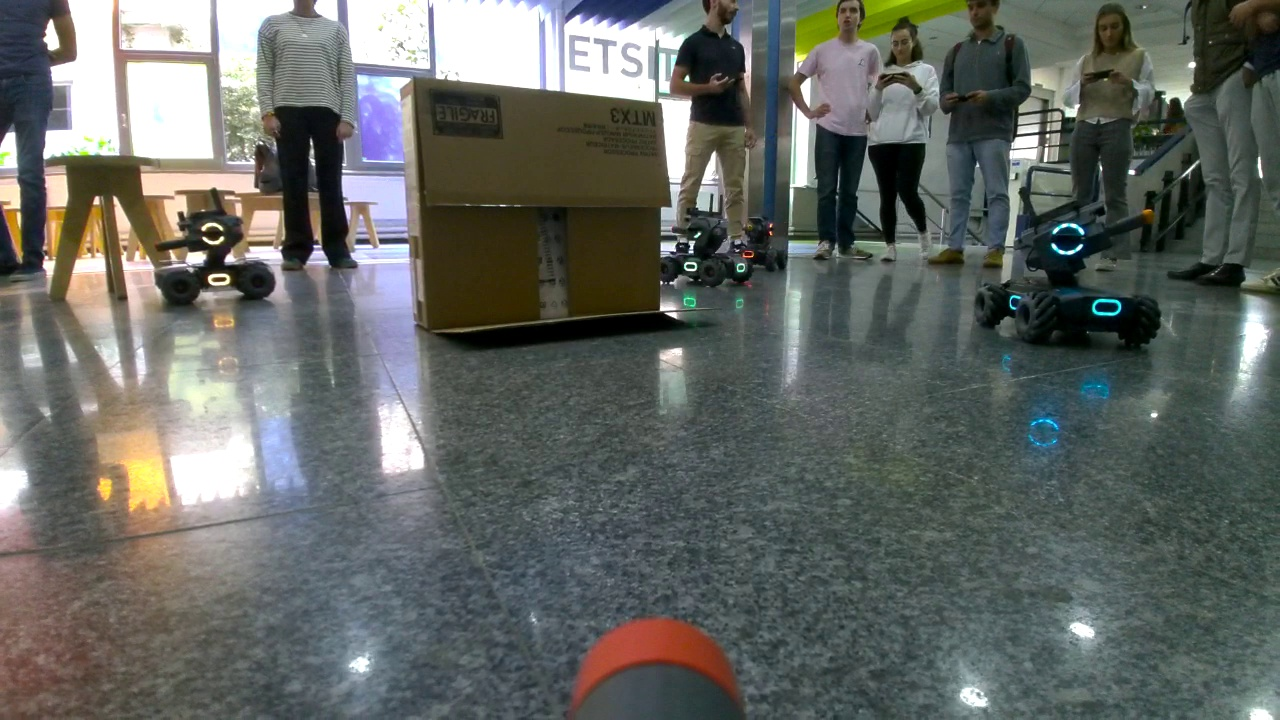robot: (977, 198, 1162, 353), (152, 207, 280, 309), (657, 210, 750, 287), (735, 216, 795, 270)
